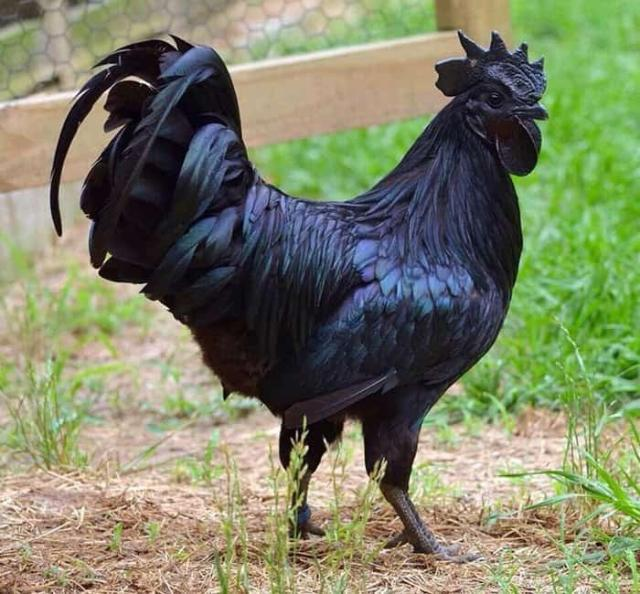Chicken: (51, 27, 552, 551)
